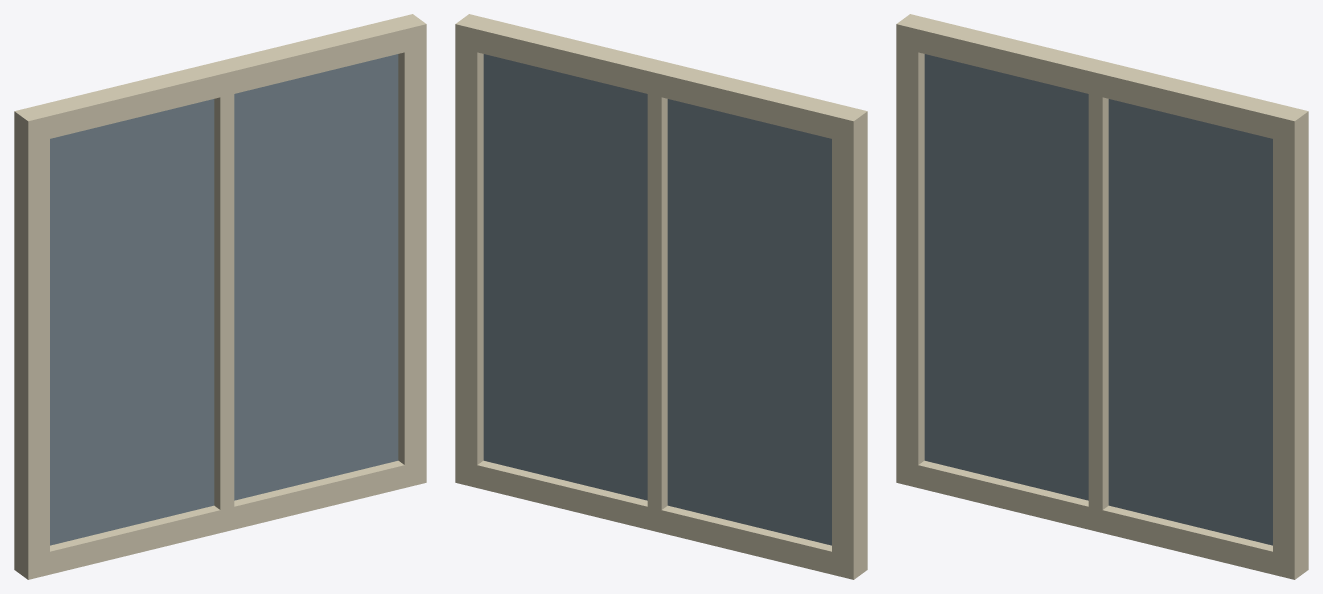
The model's file is res_window.glb.
3 renders of one model, left to right at view 1: azimuth 30°, elevation 25°; view 2: azimuth 150°, elevation 25°; view 3: azimuth 330°, elevation 25°, orthographic.
Parts seen in each view (by area): view 1: res_window; view 2: res_window; view 3: res_window.
Part boxes in pixels (bbox=[...]): res_window: bbox=[14, 14, 426, 579]; res_window: bbox=[455, 14, 867, 579]; res_window: bbox=[896, 14, 1308, 579].
Bounding box in the file's own units: 1 × 1.1 × 0.06.
